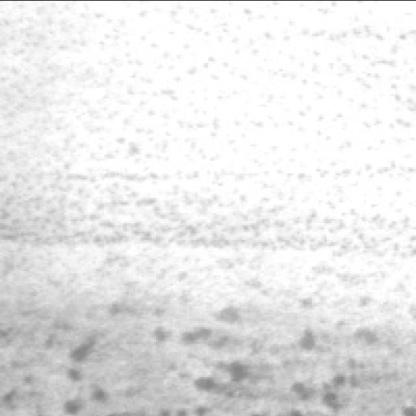pitted_surface: (0, 305, 391, 416), (0, 170, 408, 256), (0, 8, 154, 162)
